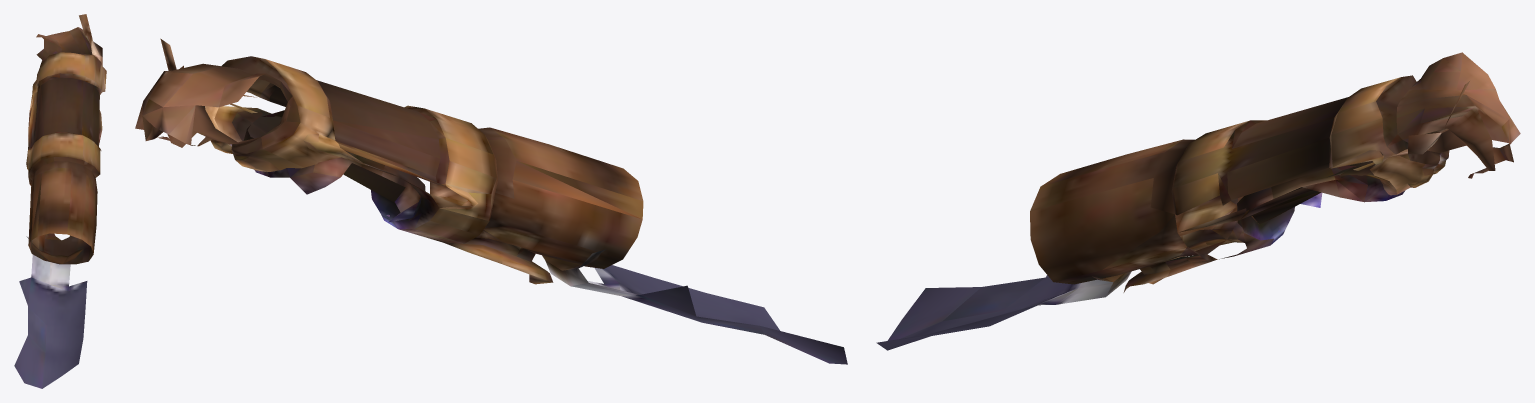
File: SM_Arms_FlyingSquirrelL.glb
3 views of the same model, side by side, from view 1: azimuth 30°, elevation 25°; view 2: azimuth 150°, elevation 25°; view 3: azimuth 270°, elevation 25° (orthographic). The views are drawn at different scales.
Parts seen in each view (by area): view 1: SM_Arms_FlyingSquirrelL_LOD0; view 2: SM_Arms_FlyingSquirrelL_LOD0; view 3: SM_Arms_FlyingSquirrelL_LOD0.
Boxes of the visible parts, x1,y1,x2,y2 form: SM_Arms_FlyingSquirrelL_LOD0: (14, 14, 106, 388); SM_Arms_FlyingSquirrelL_LOD0: (135, 38, 847, 364); SM_Arms_FlyingSquirrelL_LOD0: (876, 52, 1520, 350).
Size of the model in its own units: 0.3562 by 0.3574 by 0.4691.
Materials: 1 (1 with a texture image).
